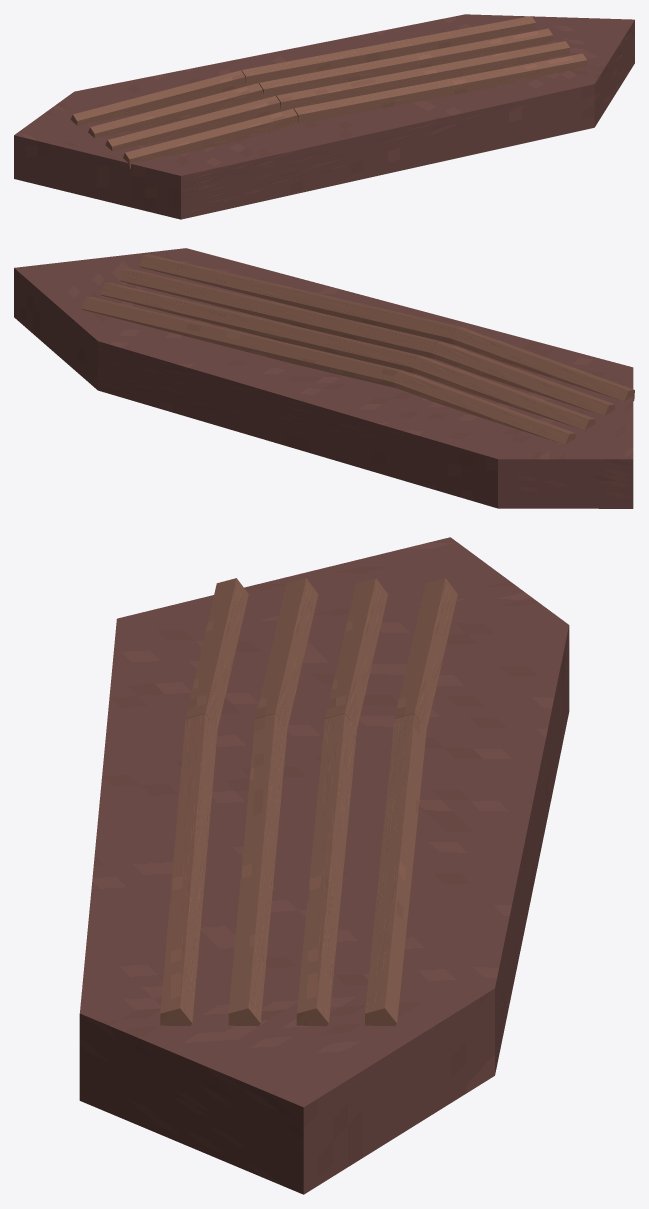
The model's file is jabberwock_heart_desiccated.glb.
3 views of the same model, one above another, from view 1: azimuth 30°, elevation 25°; view 2: azimuth 150°, elevation 25°; view 3: azimuth 270°, elevation 25° (orthographic). The views are drawn at different scales.
Visible parts, largest first — view 1: block_drained strip of muscle, block_wrinkled muscle fiber 1 (×4), block_wrinkled muscle fiber 0 (×4); view 2: block_drained strip of muscle, block_wrinkled muscle fiber 1 (×4), block_wrinkled muscle fiber 0 (×4); view 3: block_drained strip of muscle, block_wrinkled muscle fiber 1 (×4), block_wrinkled muscle fiber 0 (×4).
Part boxes in pixels (x1,y1,x2,y2): block_drained strip of muscle: (14,14,634,219); block_wrinkled muscle fiber 1 (×4): (241,16,587,124); block_wrinkled muscle fiber 0 (×4): (70,70,298,168); block_drained strip of muscle: (14,248,633,508); block_wrinkled muscle fiber 1 (×4): (81,254,460,387); block_wrinkled muscle fiber 0 (×4): (393,327,634,444); block_drained strip of muscle: (79,537,569,1194); block_wrinkled muscle fiber 1 (×4): (160,713,426,1026); block_wrinkled muscle fiber 0 (×4): (185,578,457,728).
Bounding box in the file's own units: 0.114 × 0.0116 × 0.0413.
1 material, 1 textured.
